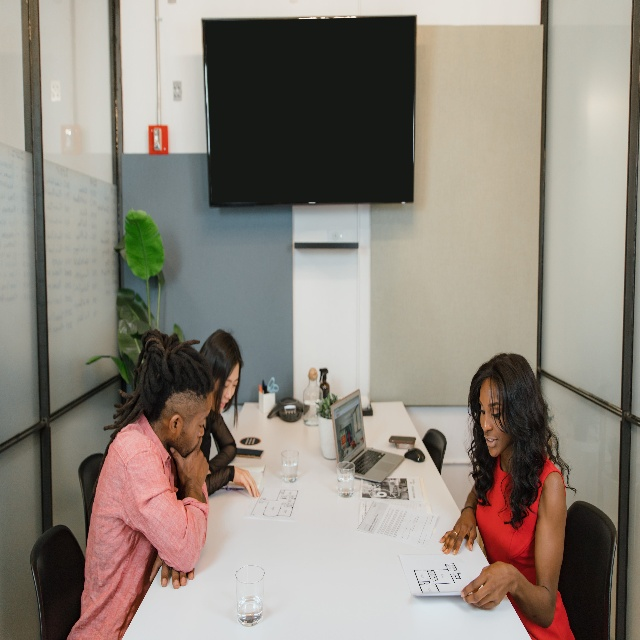Sin_guantes: (461, 560, 516, 611), (169, 435, 210, 490), (148, 551, 194, 591), (439, 508, 477, 554), (233, 465, 261, 497)
